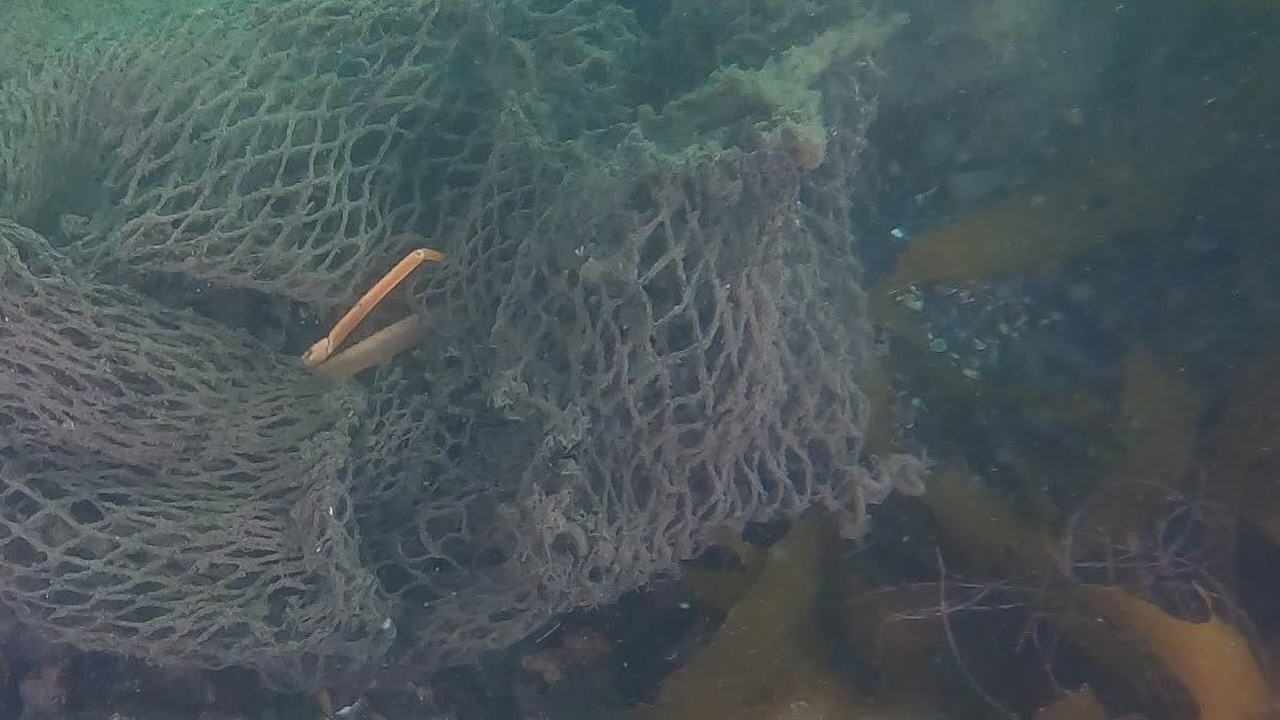fish net: (0, 0, 884, 690)
